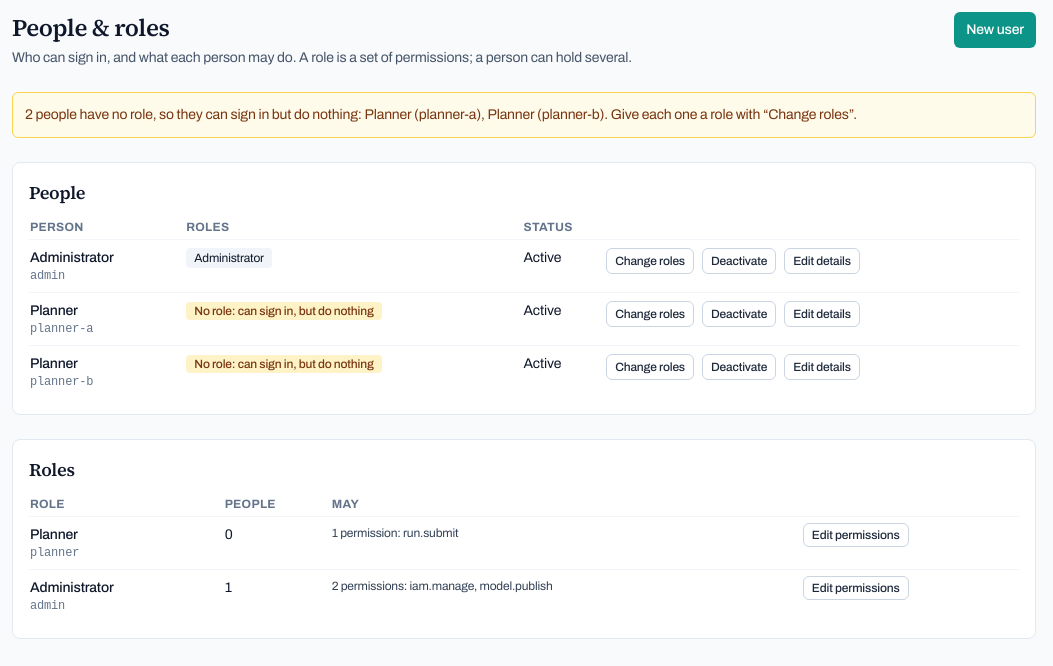
Test case: People & roles › lists each role with what it allows and how many hold it (A-2), and says why a change is refused
The image size is (1053, 666).
Check: the row "Planner planner 0 1 permission: run.submit Edit permissions" is shown, box [29,516,1019,570]
Click the 1st button "Deactivate".
click(739, 261)  # box [702,248,776,274]
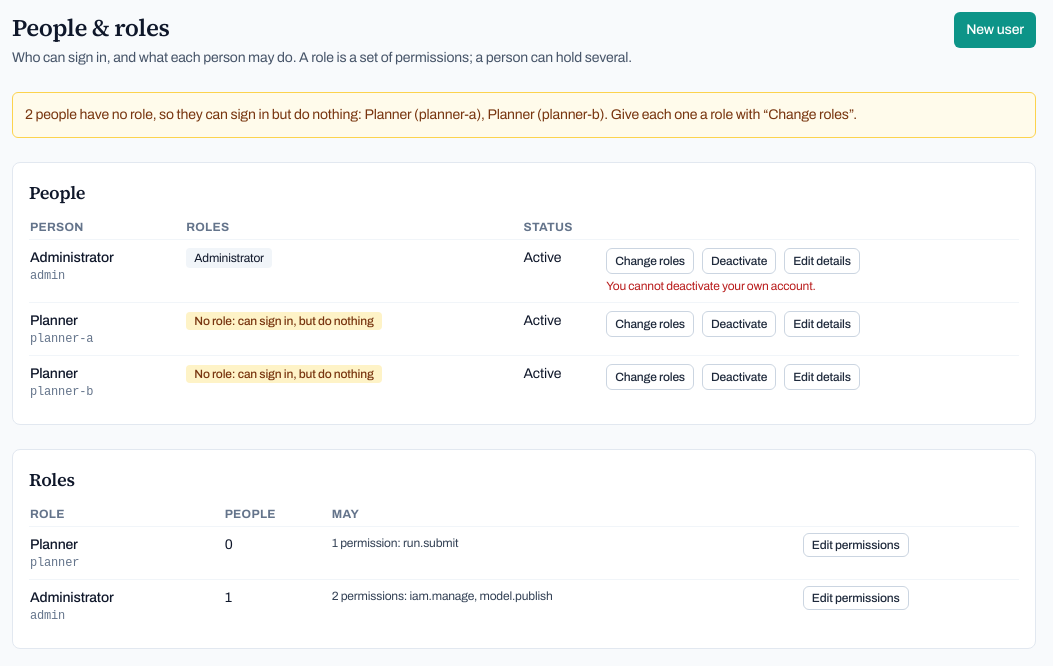
Check: the message reads "You cannot deactivate your own account.", box [606,279,816,293]
